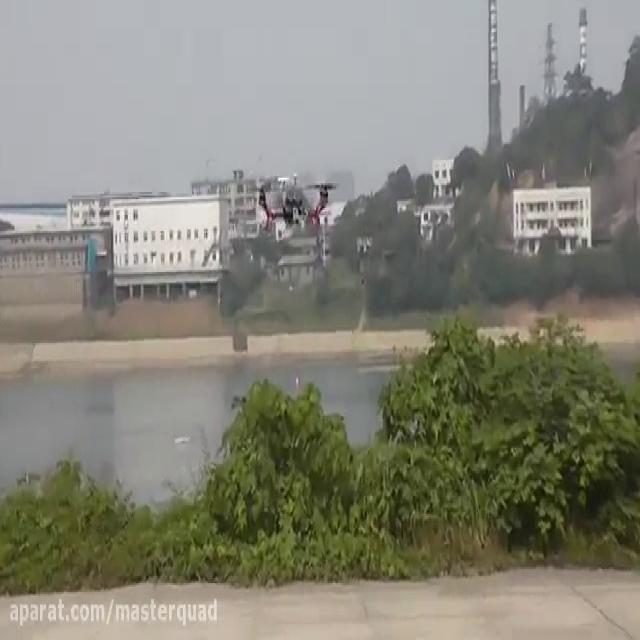drone: (247, 171, 342, 238)
